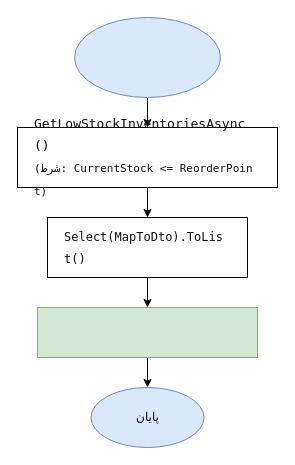
This 295x465 diagram has some shape labels left out. Each missing label, with the box of its shape:
return List<InventoryDto>: (36, 306, 258, 358)
شروع GetLowStockInventoriesAsync: (74, 16, 220, 98)
